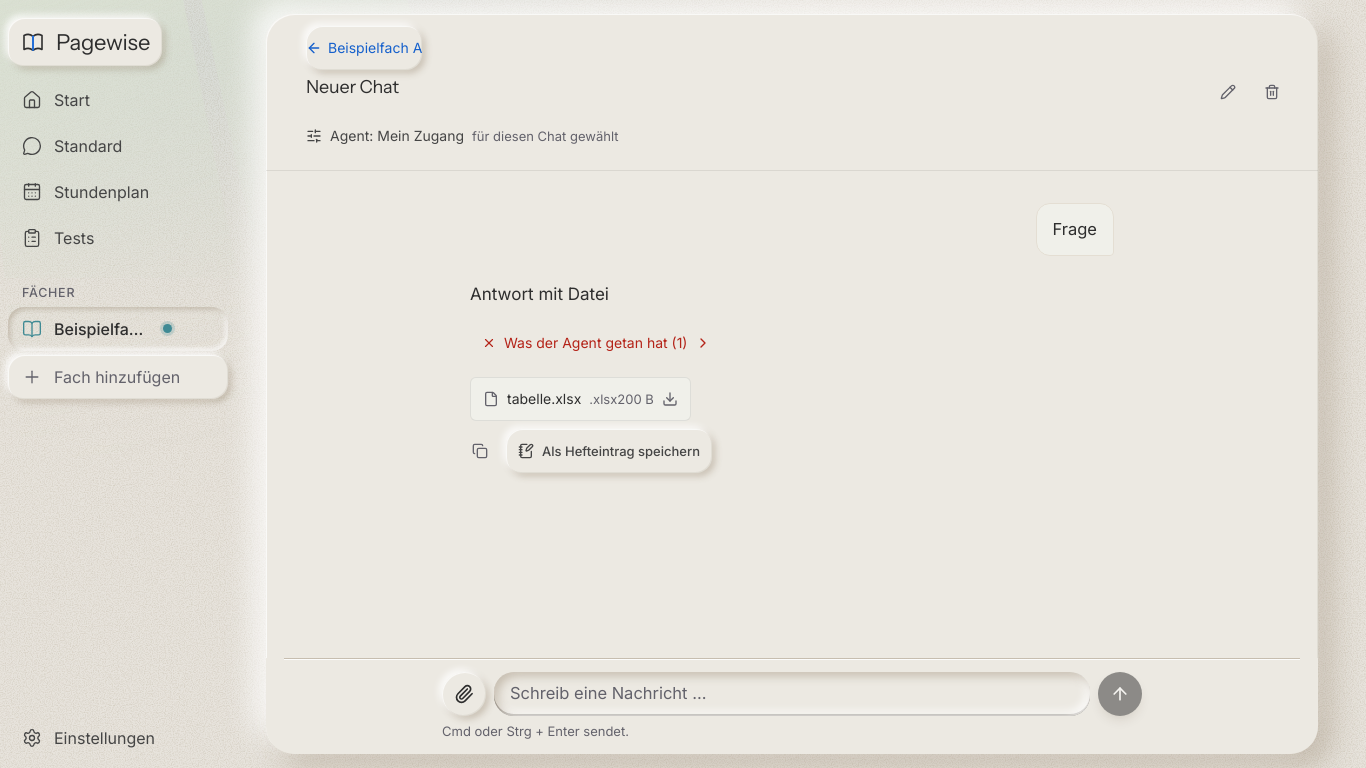
Test: Chat mit Agent: Antwort › übernimmt Schritte und Dateien auch beim Wiederanhängen und beim Laden des Verlaufs
The image size is (1366, 768).
Expected: the text "Antwort mit Datei" is shown, [470, 284, 609, 304]
Expected: the link with aria-label "tabelle.xlsx herunterladen (200 B)" is shown, [470, 377, 691, 421]
Click the text "Was der Agent getan hat (1)".
click(596, 343)  # box [504, 333, 688, 353]
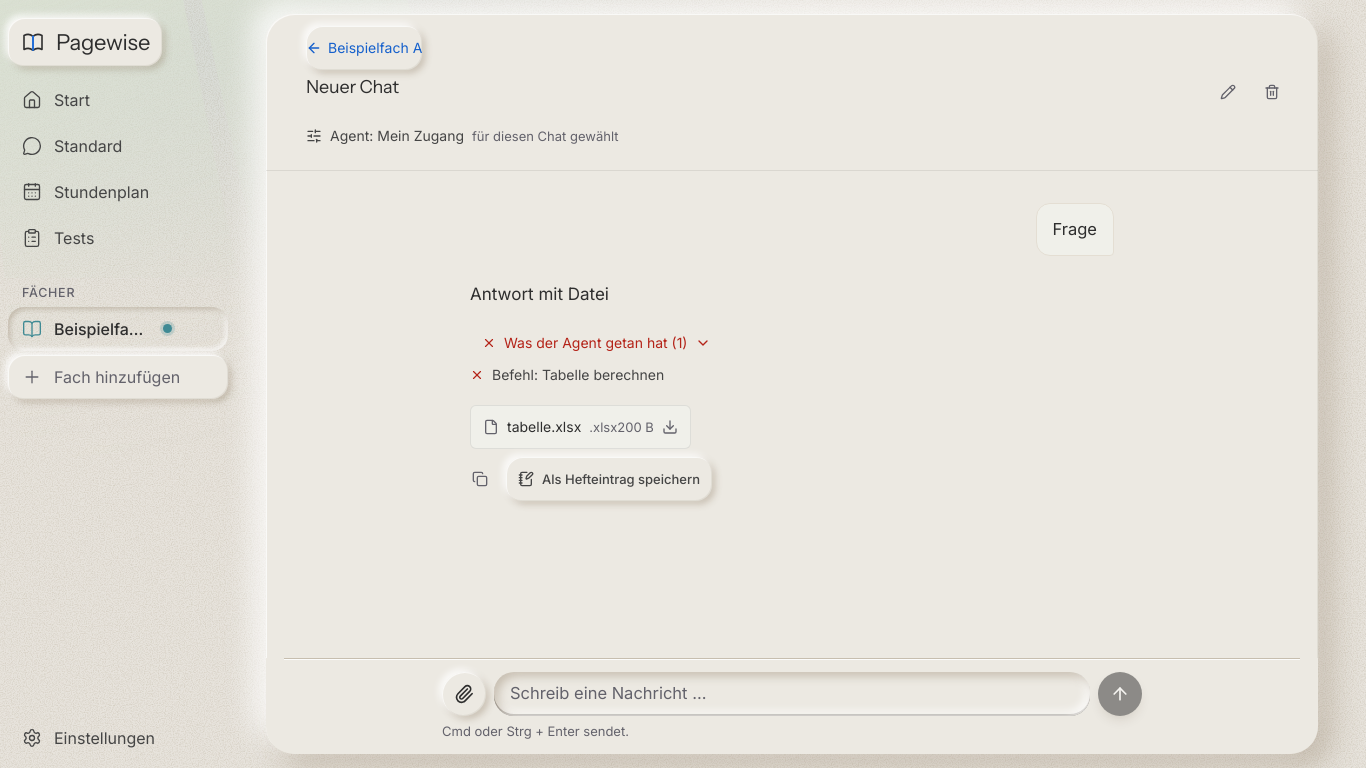
Expected: the text "Befehl: Tabelle berechnen" is shown, [492, 365, 664, 385]
